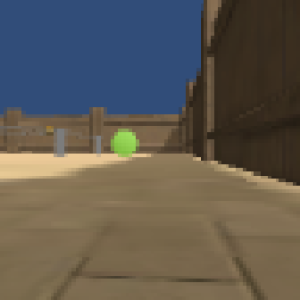goodGoal: (111, 129, 139, 159)
wall: (53, 128, 69, 158), (94, 135, 104, 154)
